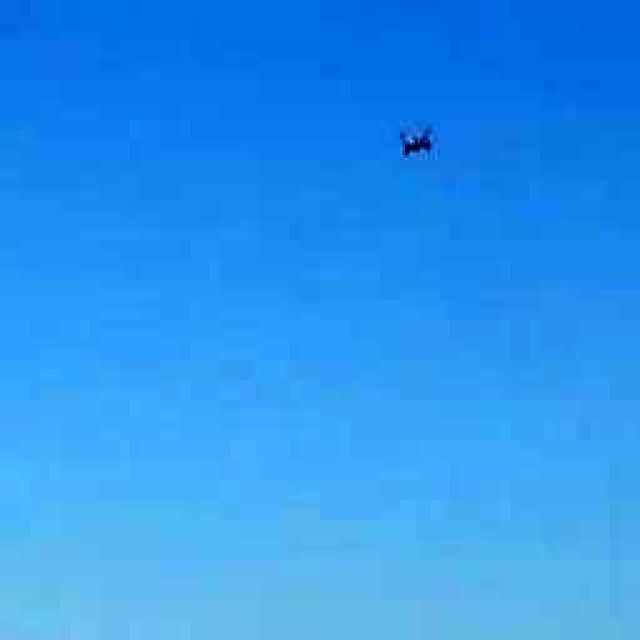bird: (359, 90, 469, 180)
